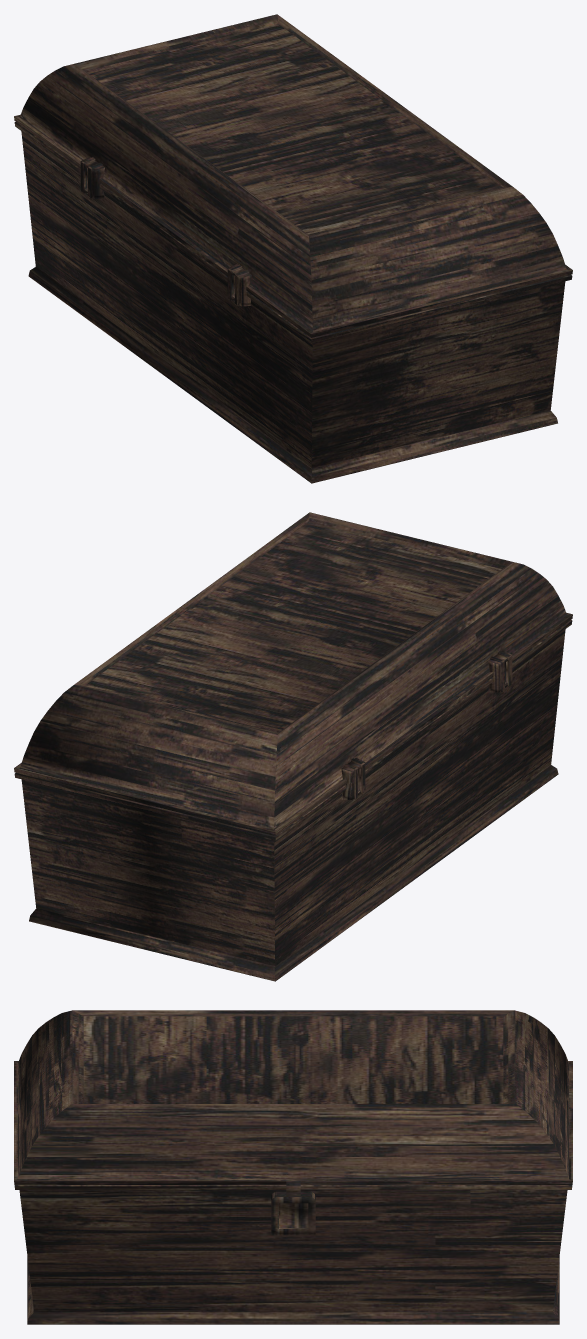
The model's file is Sunduk.fbx.
3 renders of one model, top to bottom at view 1: azimuth 30°, elevation 25°; view 2: azimuth 150°, elevation 25°; view 3: azimuth 270°, elevation 25°, orthographic. The views are drawn at different scales.
Visible parts, largest first — view 1: Плоскость; view 2: Плоскость; view 3: Плоскость.
Part boxes in pixels (<box>): Плоскость: <box>14,14,572,483</box>; Плоскость: <box>14,512,572,981</box>; Плоскость: <box>14,1010,572,1324</box>.
Size of the model in its own units: 212 by 165 by 397.
